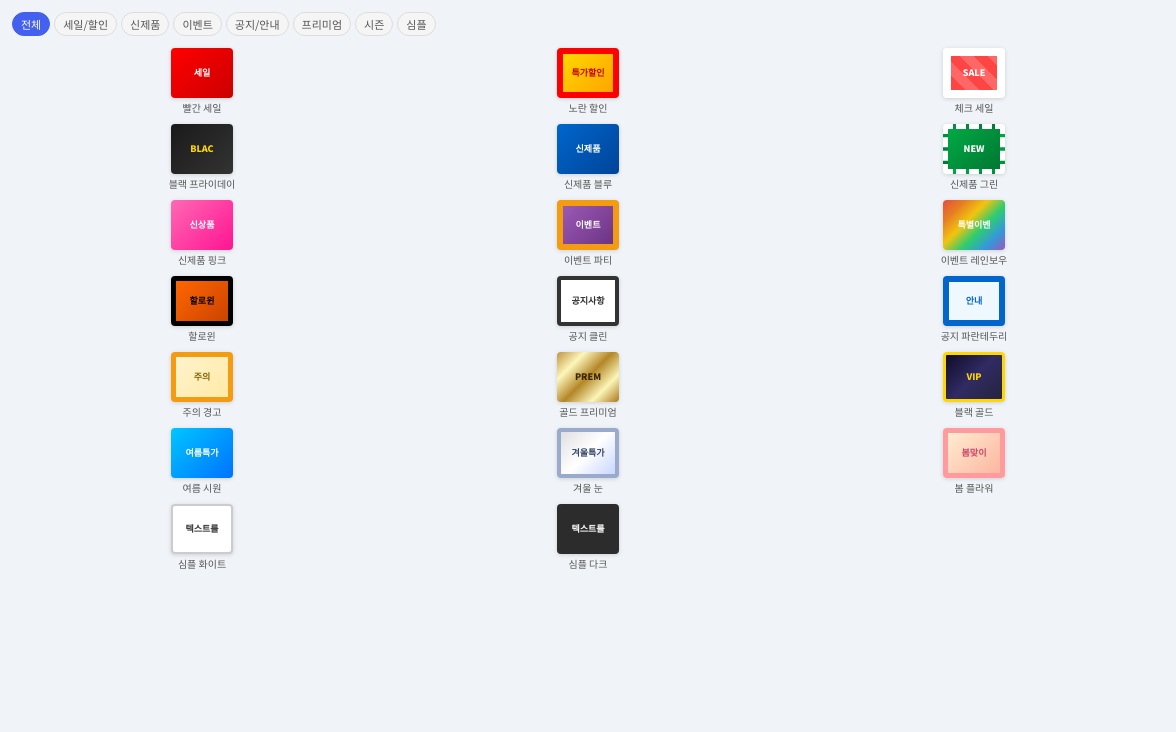
TemplatePanel — 카테고리 필터 › 전체 탭을 클릭하면 모든 템플릿이 다시 표시된다
This screenshot has width=1176, height=732.
// 카테고리로 필터 후 전체로 돌아오기
Click the button "세일/할인" at {"x": 86, "y": 24}, box [54,12,117,36]
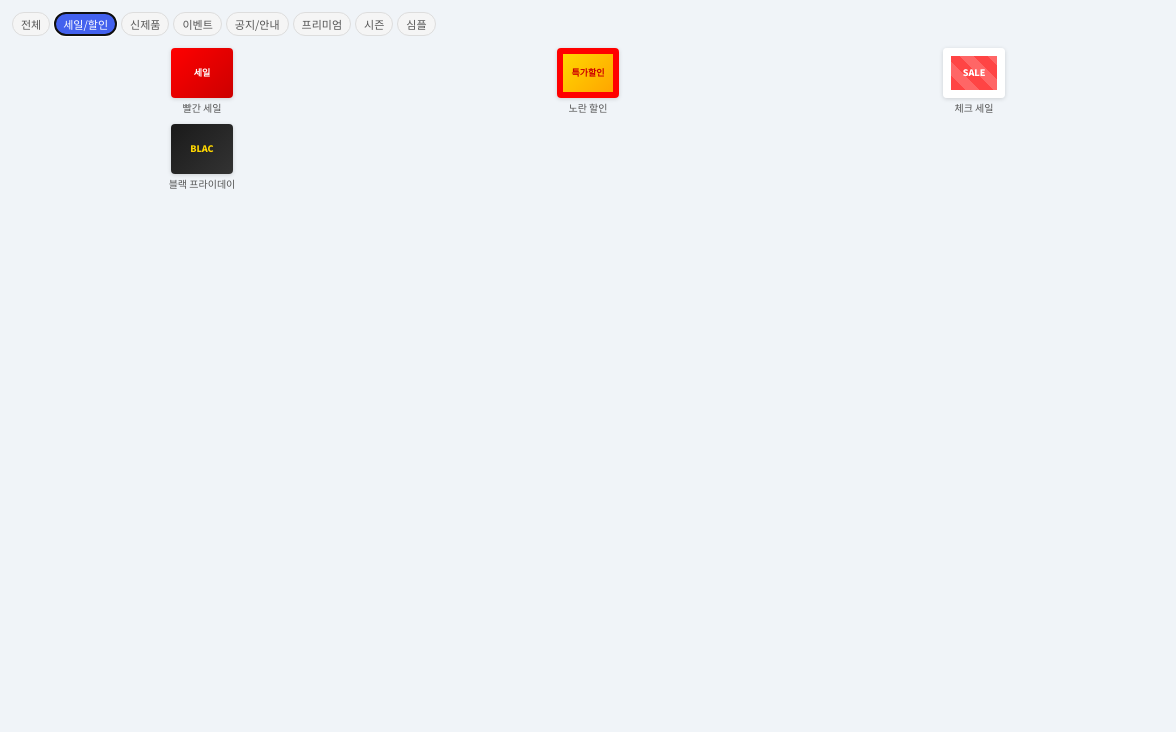
Click the button "전체" at {"x": 31, "y": 24}, box [12,12,50,36]
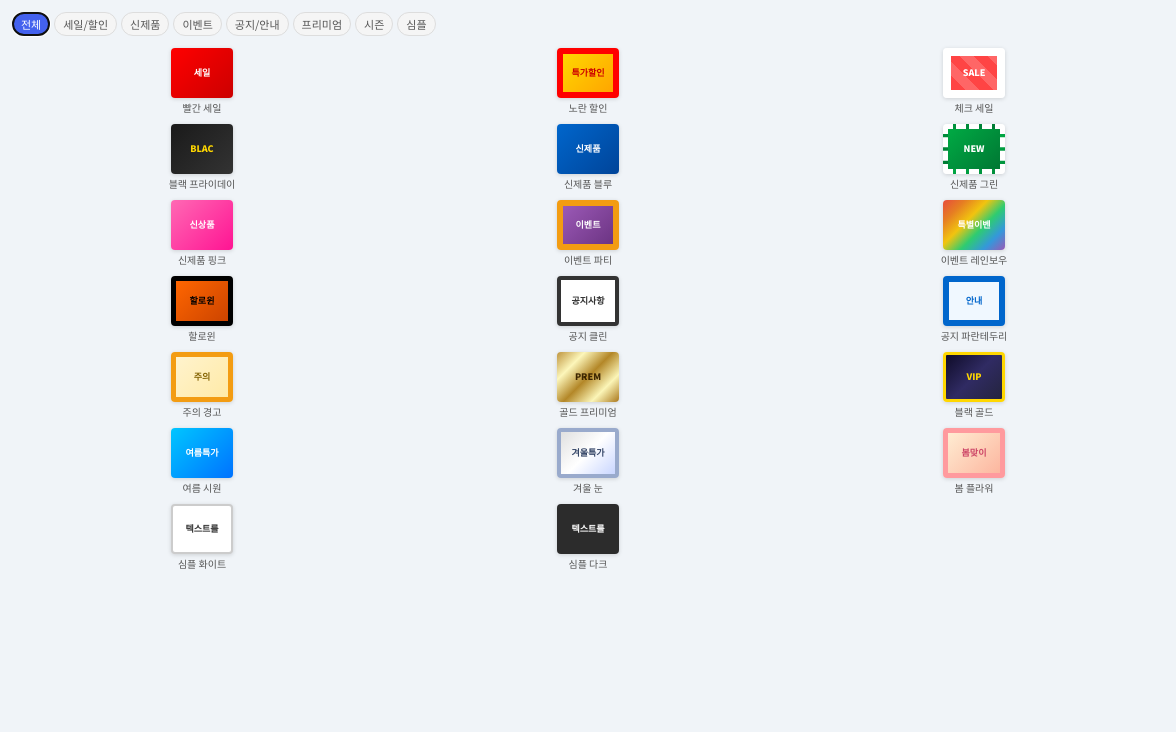
Now the button titled "신제품 블루" is shown, box [398,122,778,192]
Now the button titled "신제품 그린" is shown, box [784,122,1164,192]
Now the button titled "신제품 핑크" is shown, box [12,198,392,268]
